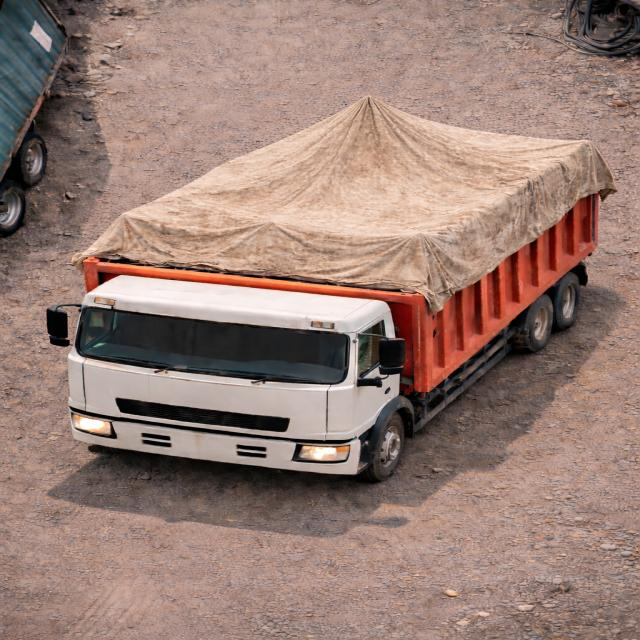Box: (92, 97, 610, 271)
Truck: (40, 83, 628, 484)
